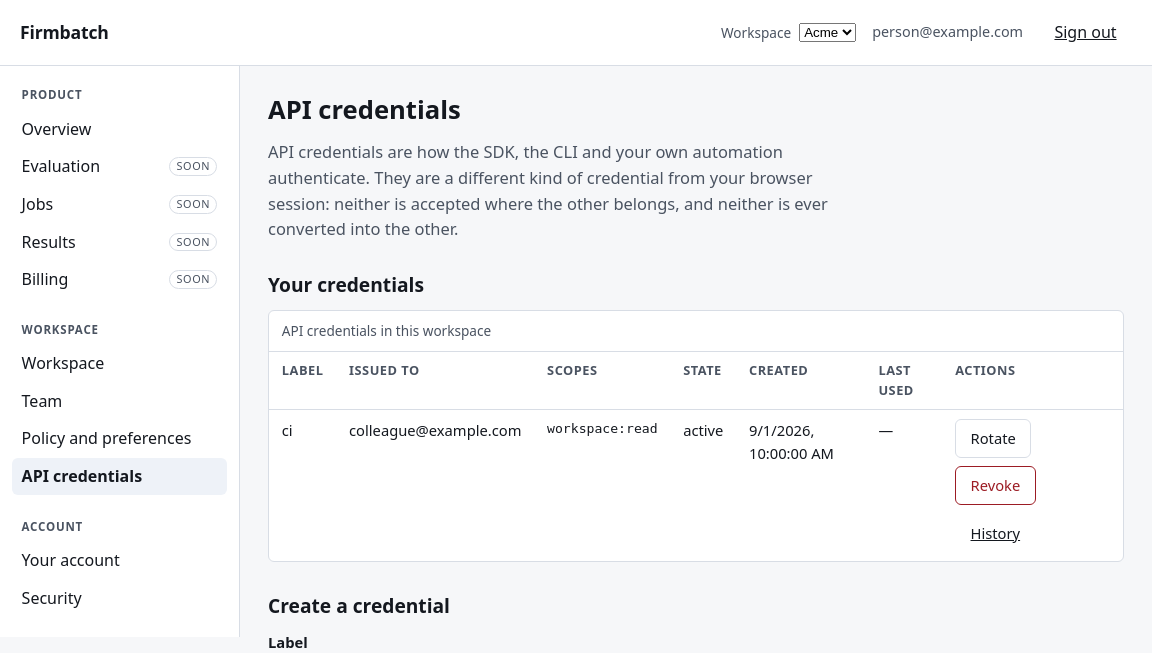
Test case: rotating › reports the API's refusal when the caller is not the issuing member
Check: the heading "API credentials" is shown, box [268,92,461,127]
Click the button "Rotate". click: click(993, 439)
box: [955,419,1031,458]
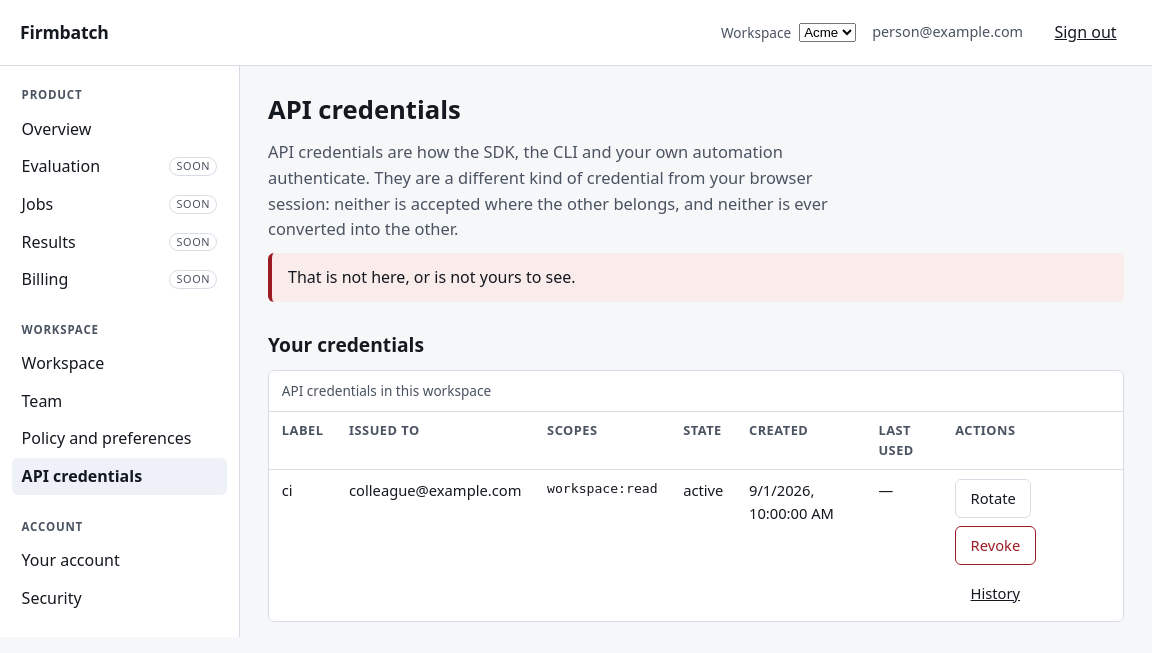
Check: the message reads "That is not here, or is not yours to see.", box [288,266,576,288]
